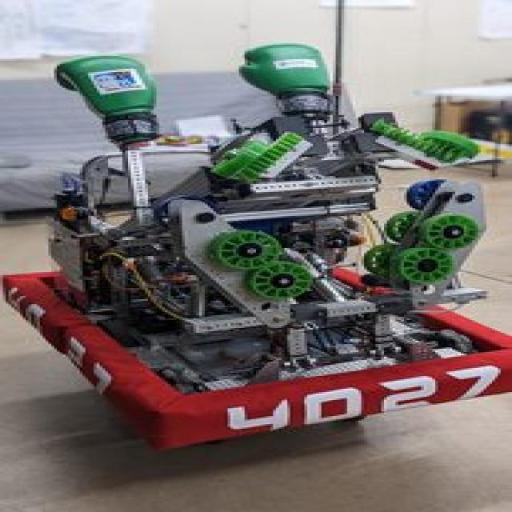robot: (0, 37, 503, 456)
